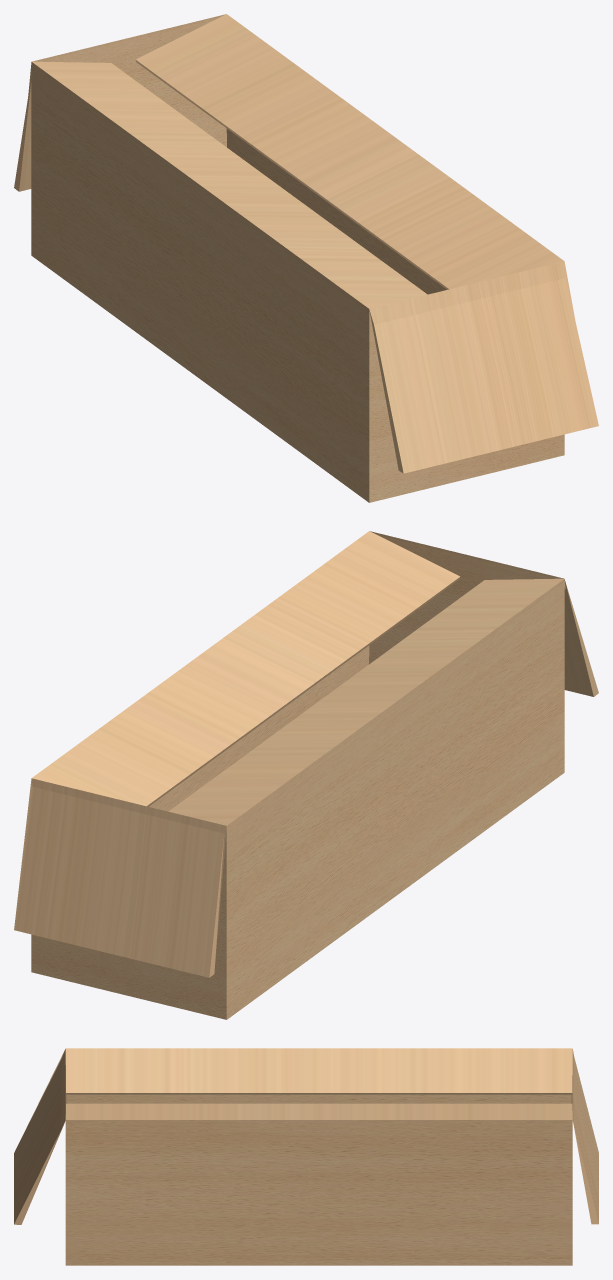
Rendered from envi10.fbx.
3 views of the same model, one above another, from view 1: azimuth 30°, elevation 25°; view 2: azimuth 150°, elevation 25°; view 3: azimuth 270°, elevation 25° (orthographic). The views are drawn at different scales.
Visible parts, largest first — view 1: Cube.004; view 2: Cube.004; view 3: Cube.004.
Boxes of the visible parts, <box> form: Cube.004: <box>14,14,598,502</box>; Cube.004: <box>14,531,598,1019</box>; Cube.004: <box>14,1048,598,1265</box>.
Bounding box in the file's own units: 66.77 × 63.39 × 231.
1 material, 1 textured.
